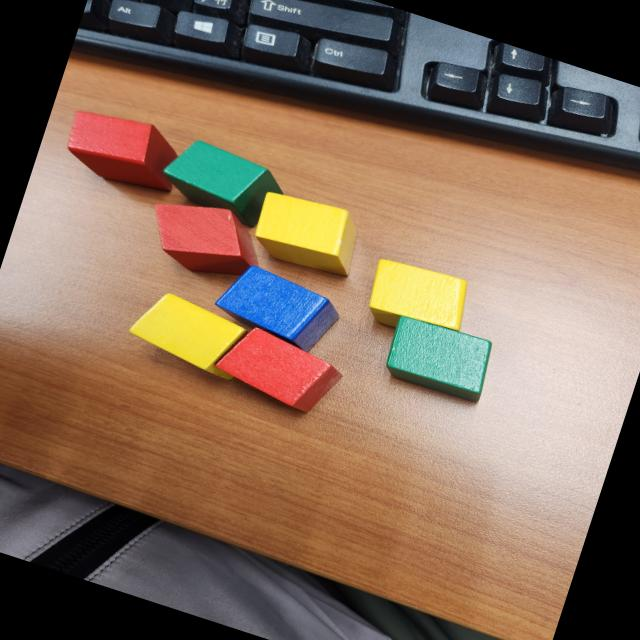blue: (206, 256, 349, 362)
green: (152, 129, 300, 236), (379, 312, 500, 408)
red: (136, 186, 276, 292), (208, 319, 350, 422), (57, 100, 191, 202)
yellow: (121, 284, 256, 384), (246, 184, 368, 281), (359, 253, 476, 348)
